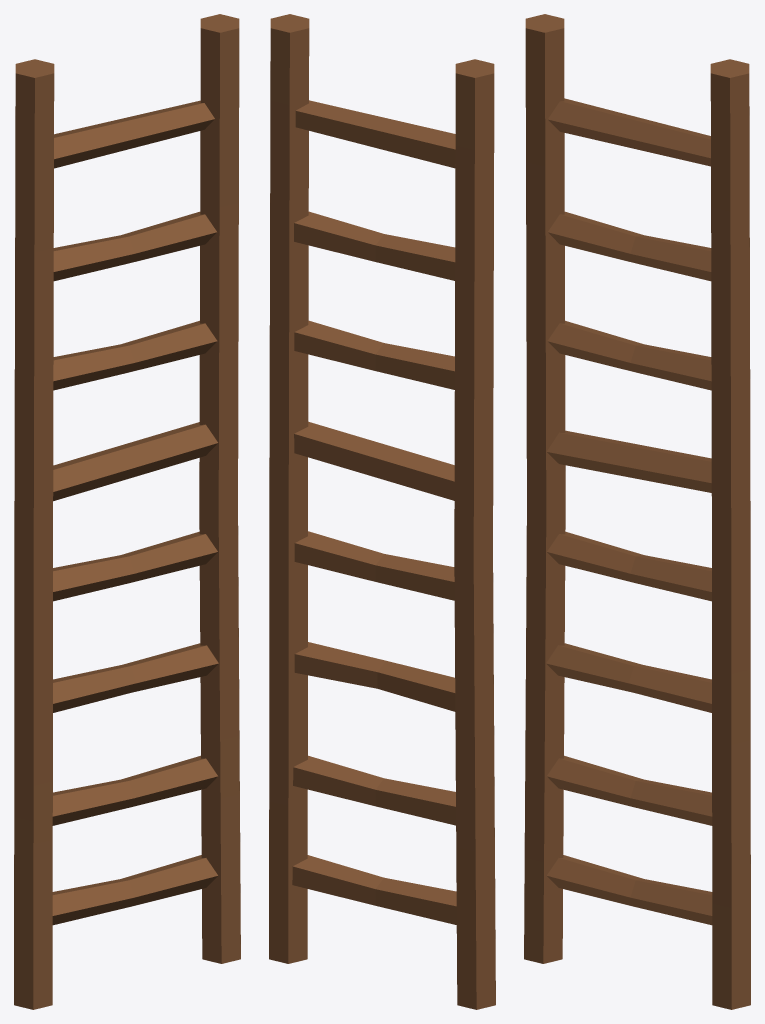
Rendered from ladder-small-wood.glb.
3 renders of one model, left to right at view 1: azimuth 30°, elevation 25°; view 2: azimuth 150°, elevation 25°; view 3: azimuth 330°, elevation 25°, orthographic.
Parts seen in each view (by area): view 1: ladder-small-wood; view 2: ladder-small-wood; view 3: ladder-small-wood.
Part boxes in pixels (<box>): ladder-small-wood: <box>14,14,240,1009</box>; ladder-small-wood: <box>269,14,495,1009</box>; ladder-small-wood: <box>524,14,750,1009</box>.
Bounding box in the file's own units: 0.8325 × 3.27 × 0.131.
1 material, 1 textured.
